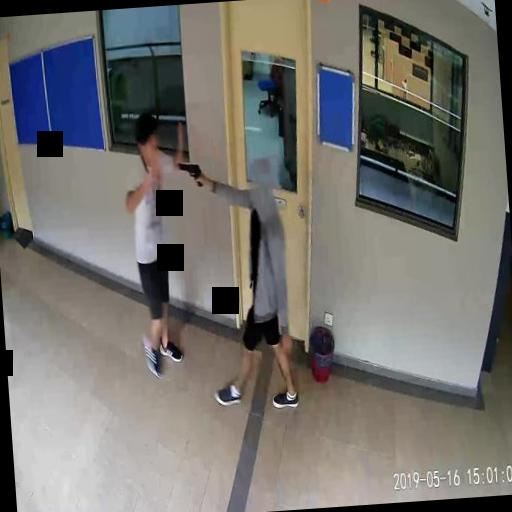Handgun: (176, 158, 203, 188)
